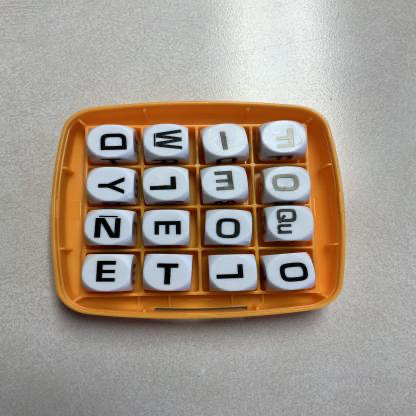d: (88, 126, 134, 158)
e: (83, 256, 131, 292), (143, 211, 190, 246), (204, 167, 248, 200)
f: (263, 122, 307, 154)
i: (204, 125, 248, 157)
l: (211, 256, 258, 292), (144, 168, 188, 202)
n: (85, 211, 133, 246)
o: (268, 255, 315, 291), (207, 211, 253, 245), (267, 168, 311, 201)
qu: (268, 207, 314, 242)
t: (145, 255, 192, 292)
w: (145, 125, 188, 157)
y: (88, 168, 133, 202)
